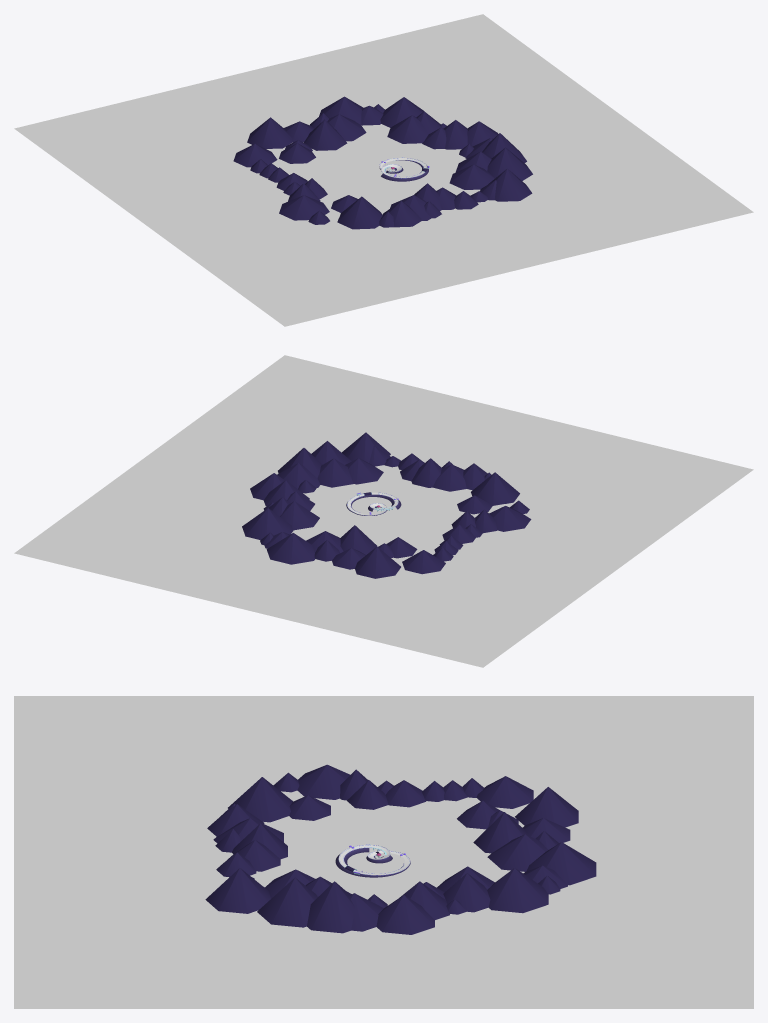
File: bake.glb
3 views of the same model, one above another, from view 1: azimuth 30°, elevation 25°; view 2: azimuth 150°, elevation 25°; view 3: azimuth 270°, elevation 25° (orthographic). The views are drawn at different scales.
Visible parts, largest first — view 1: bk0028, bk0045, bk0060, bk0035, bk0049, bk0062, bk0033, bk0069, bk0034, bk0068, bk0065, bk0057 (+4 smaller); view 2: bk0028, bk0065, bk0060, bk0068, bk0045, bk0032, bk0049, bk0069, bk0057, bk0035, bk0042, bk0034 (+4 smaller); view 3: bk0028, bk0068, bk0035, bk0033, bk0031, bk0065, bk0074, bk0045, bk0060, bk0064, bk0049, bk0057 (+16 smaller).
Part boxes in pixels (left/top/right/bottom): bk0028: left=14, top=14, right=753, bottom=326; bk0045: left=337, top=196, right=382, bottom=229; bk0060: left=247, top=117, right=292, bottom=148; bk0035: left=488, top=168, right=532, bottom=201; bk0049: left=279, top=195, right=329, bottom=220; bk0062: left=304, top=119, right=347, bottom=150; bk0033: left=487, top=147, right=532, bottom=180; bk0069: left=387, top=115, right=428, bottom=143; bk0034: left=449, top=164, right=494, bottom=189; bk0068: left=380, top=97, right=423, bottom=127; bk0065: left=319, top=96, right=363, bottom=124; bk0057: left=233, top=143, right=277, bottom=167; bk0028: left=14, top=355, right=753, bottom=667; bk0065: left=266, top=533, right=314, bottom=564; bk0060: left=355, top=546, right=400, bottom=578; bk0068: left=242, top=508, right=293, bottom=539; bk0045: left=471, top=472, right=519, bottom=505; bk0032: left=317, top=458, right=353, bottom=487; bk0049: left=489, top=506, right=531, bottom=531; bk0069: left=280, top=501, right=319, bottom=530; bk0057: left=402, top=550, right=445, bottom=574; bk0035: left=341, top=432, right=390, bottom=462; bk0042: left=432, top=464, right=466, bottom=491; bk0034: left=345, top=458, right=383, bottom=484; bk0028: left=14, top=696, right=753, bottom=1008; bk0068: left=487, top=868, right=548, bottom=913; bk0035: left=205, top=868, right=270, bottom=913; bk0033: left=257, top=877, right=317, bottom=927; bk0031: left=307, top=881, right=354, bottom=933; bk0065: left=526, top=842, right=596, bottom=885; bk0074: left=376, top=895, right=434, bottom=934; bk0045: left=228, top=777, right=292, bottom=822; bk0060: left=515, top=787, right=578, bottom=827; bk0064: left=487, top=834, right=548, bottom=871; bk0049: left=297, top=764, right=350, bottom=799; bk0057: left=476, top=776, right=533, bottom=808.
Size of the model in its own units: 4000 by 222 by 4000.
